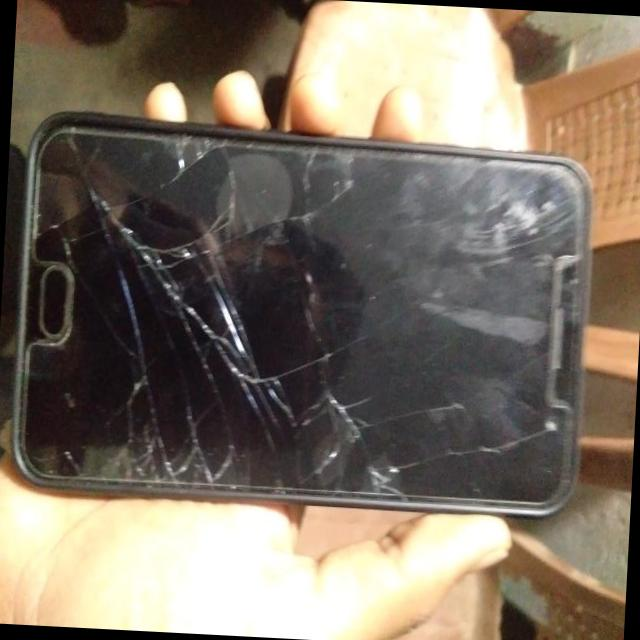screen crack: (28, 120, 596, 530)
